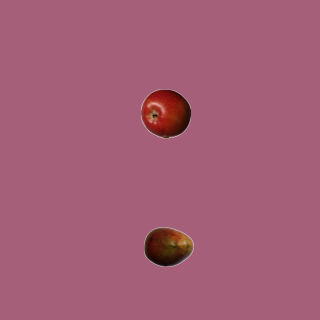Apple Braeburn: (140, 88, 190, 138)
Mango Red: (143, 221, 193, 271)
